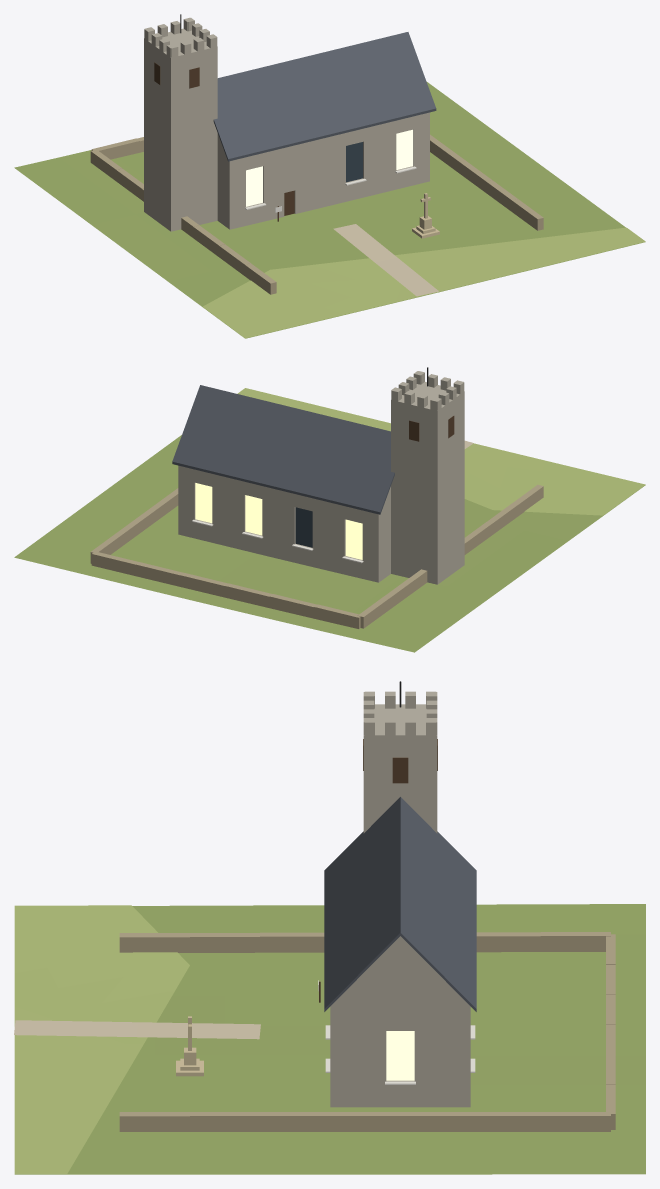
Rendered from church-evening.glb.
The picture shows the model from 3 angles, top to bottom: view 1: azimuth 30°, elevation 25°; view 2: azimuth 150°, elevation 25°; view 3: azimuth 270°, elevation 25°; orthographic projection. The views are drawn at different scales.
Parts seen in each view (by area): view 1: ground, cut_roof_st_aldhelm, st_aldhelm_walls, ground_areas, st_aldhelm_shell, boundaries, ground_lanes, prop_memorial; view 2: ground, cut_roof_st_aldhelm, st_aldhelm_walls, st_aldhelm_shell, ground_areas, boundaries; view 3: ground, ground_areas, cut_roof_st_aldhelm, boundaries, st_aldhelm_shell, st_aldhelm_walls, ground_lanes, prop_memorial.
Part boxes in pixels (x1,y1,x2,y2): ground: (14, 81, 645, 338); cut_roof_st_aldhelm: (213, 32, 436, 161); st_aldhelm_walls: (144, 14, 416, 231); ground_areas: (203, 227, 645, 338); st_aldhelm_shell: (217, 112, 429, 229); boundaries: (90, 134, 543, 294); ground_lanes: (333, 224, 438, 296); prop_memorial: (412, 193, 439, 238); ground: (14, 435, 645, 652); cut_roof_st_aldhelm: (172, 385, 394, 514); st_aldhelm_walls: (192, 367, 464, 584); st_aldhelm_shell: (178, 465, 390, 582); ground_areas: (237, 388, 645, 515); boundaries: (90, 484, 543, 628); ground: (14, 904, 645, 1174); ground_areas: (14, 905, 189, 1173); cut_roof_st_aldhelm: (324, 797, 476, 1011); boundaries: (119, 932, 615, 1131); st_aldhelm_shell: (330, 936, 470, 1107); st_aldhelm_walls: (325, 681, 475, 1084); ground_lanes: (14, 1020, 260, 1039); prop_memorial: (176, 1016, 203, 1076).
Bounding box in the file's own units: 36 × 18.04 × 36.04.
